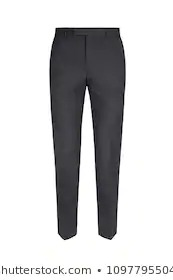F_dress pants: (46, 22, 129, 246)
